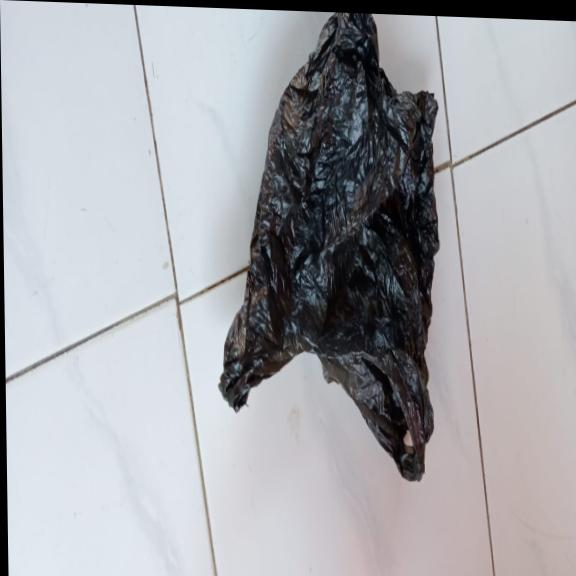Plastik: (212, 8, 443, 483)
